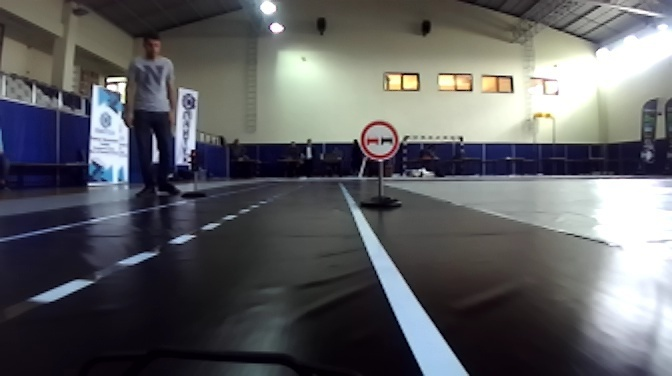sollama_yasak: (360, 122, 397, 162)
